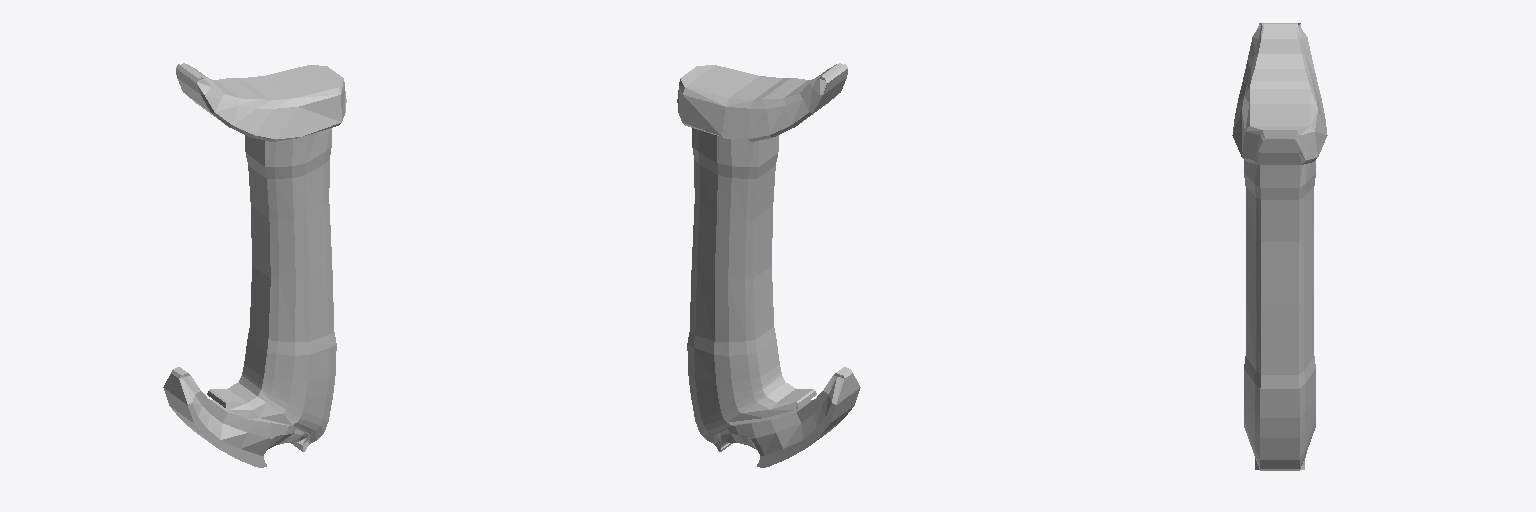
The model's file is IcePickHandle2.obj.
3 views of the same model, side by side, from view 1: azimuth 30°, elevation 25°; view 2: azimuth 150°, elevation 25°; view 3: azimuth 270°, elevation 25° (orthographic).
Parts seen in each view (by area): view 1: Handle:1.001; view 2: Handle:1.001; view 3: Handle:1.001.
Part boxes in pixels (bbox=[...]): Handle:1.001: bbox=[163, 63, 346, 467]; Handle:1.001: bbox=[677, 63, 860, 467]; Handle:1.001: bbox=[1232, 23, 1327, 470].
Size of the model in its own units: 6.54 by 15.54 by 3.32.